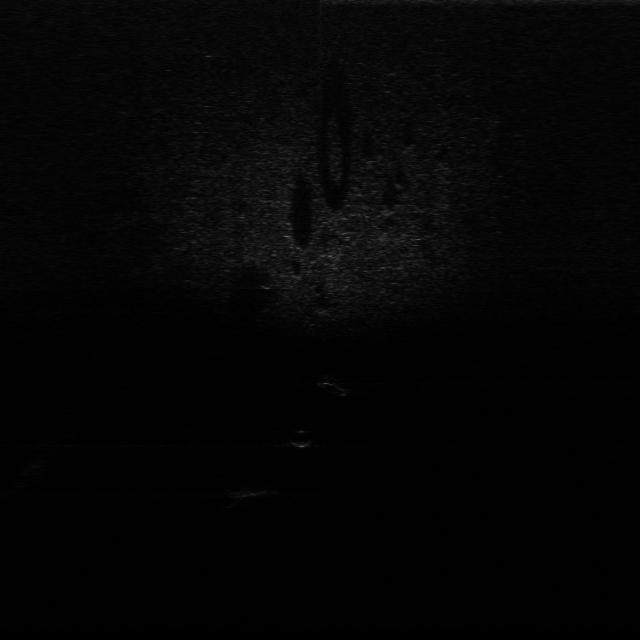ball: (284, 429, 320, 451)
square cage: (227, 481, 278, 502)
tyre: (318, 373, 356, 398)
